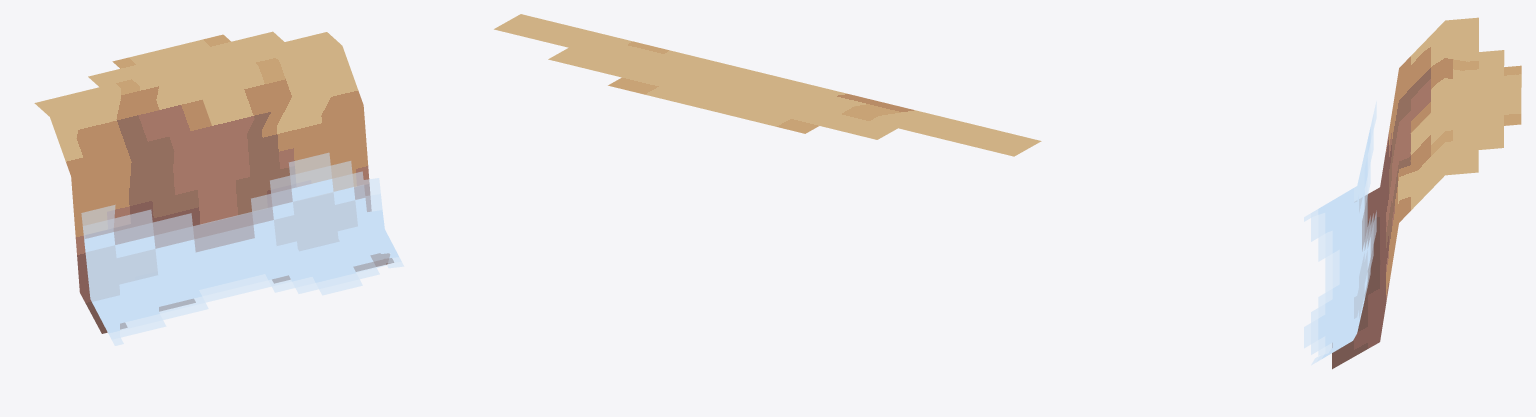
The picture shows the model from 3 angles, left to right: view 1: azimuth 30°, elevation 25°; view 2: azimuth 150°, elevation 25°; view 3: azimuth 270°, elevation 25°; orthographic projection. The views are drawn at different scales.
Bounding box in the file's own units: 1 × 0.7266 × 0.7718.
2 materials, 2 textured.
